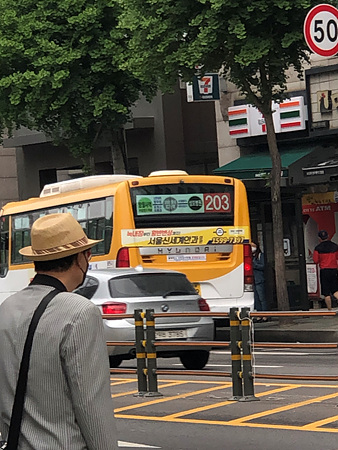bnum: (204, 192, 230, 211)
